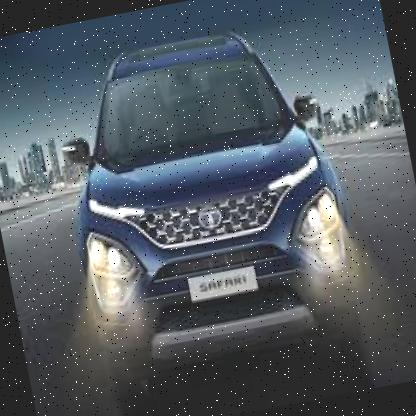car: (27, 4, 376, 370)
